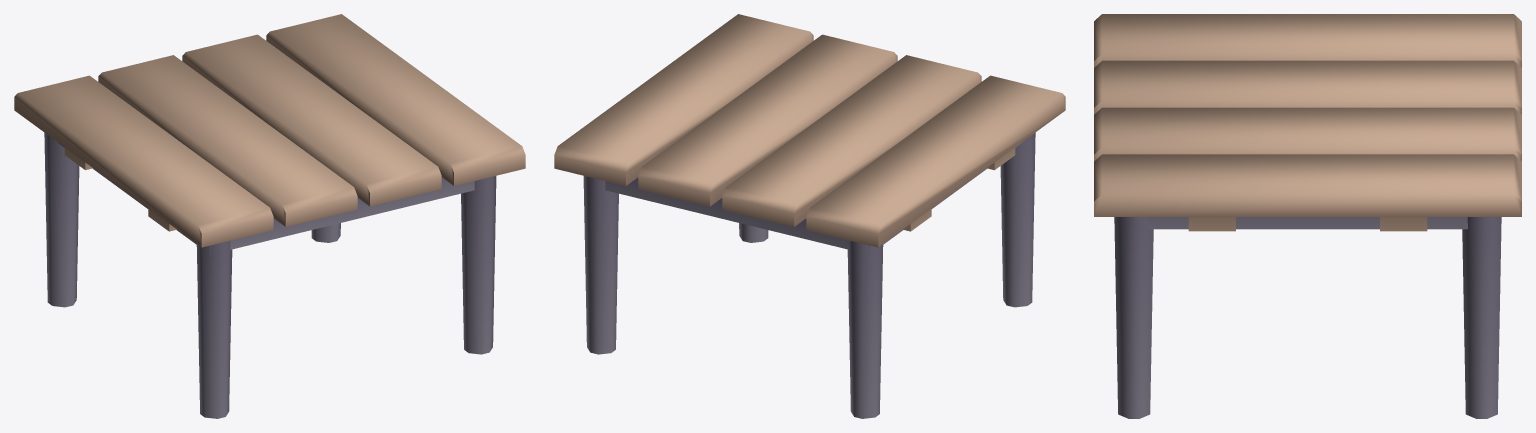
The model's file is table-planks-square.glb.
3 renders of one model, left to right at view 1: azimuth 30°, elevation 25°; view 2: azimuth 150°, elevation 25°; view 3: azimuth 270°, elevation 25°, orthographic. The views are drawn at different scales.
Parts seen in each view (by area): view 1: table-planks-square; view 2: table-planks-square; view 3: table-planks-square.
Part boxes in pixels (<box>): table-planks-square: <box>14,14,525,418</box>; table-planks-square: <box>554,14,1065,418</box>; table-planks-square: <box>1094,14,1521,418</box>.
Size of the model in its own units: 0.798 by 0.4834 by 0.8.
